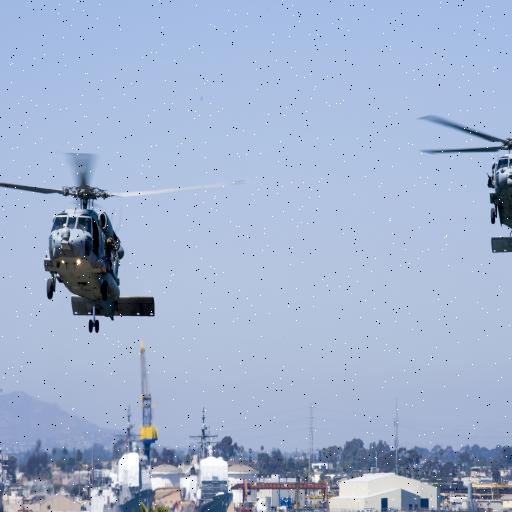helicopter: (1, 119, 260, 344), (408, 98, 512, 267)
